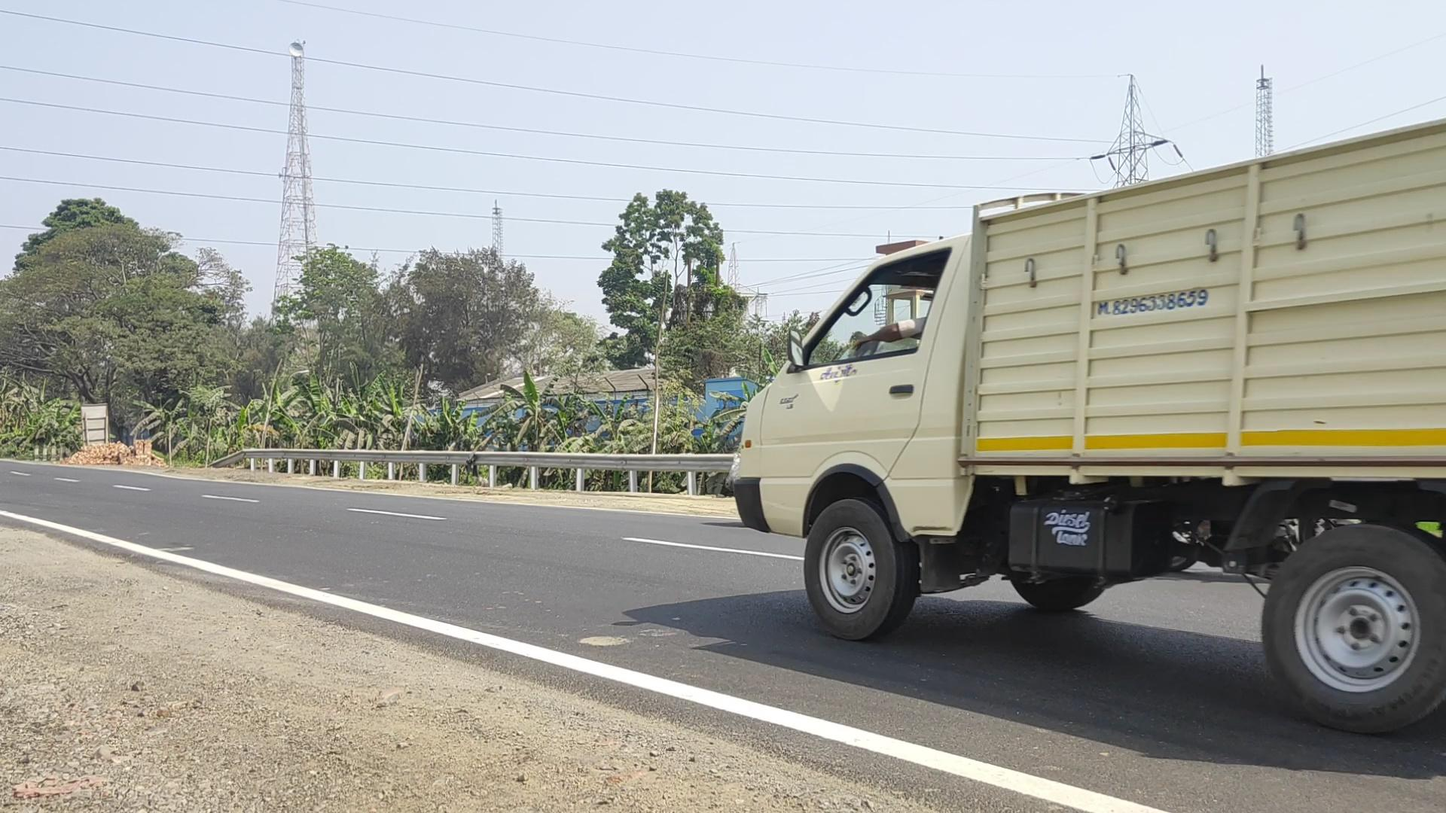van: (736, 112, 1446, 735)
